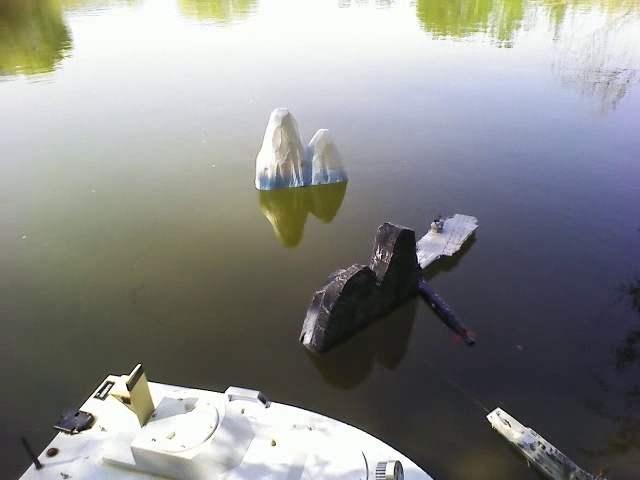aircraft_carrier: (418, 207, 483, 265)
boat: (18, 375, 436, 476)
iceberg: (252, 103, 344, 189)
rock: (291, 223, 414, 353)
submarine: (421, 280, 476, 346)
warship: (485, 403, 610, 477)
